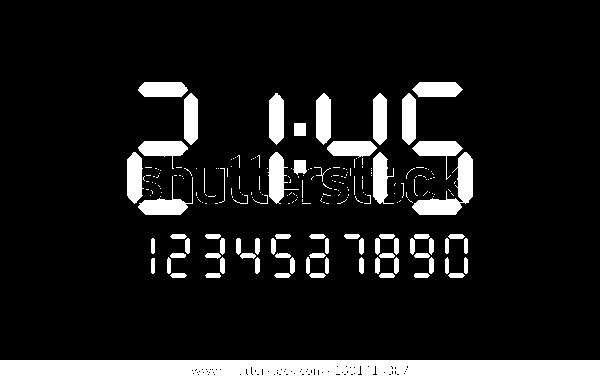dot: (291, 121, 308, 139), (293, 158, 307, 174)
one: (268, 93, 285, 204), (149, 237, 156, 276)
